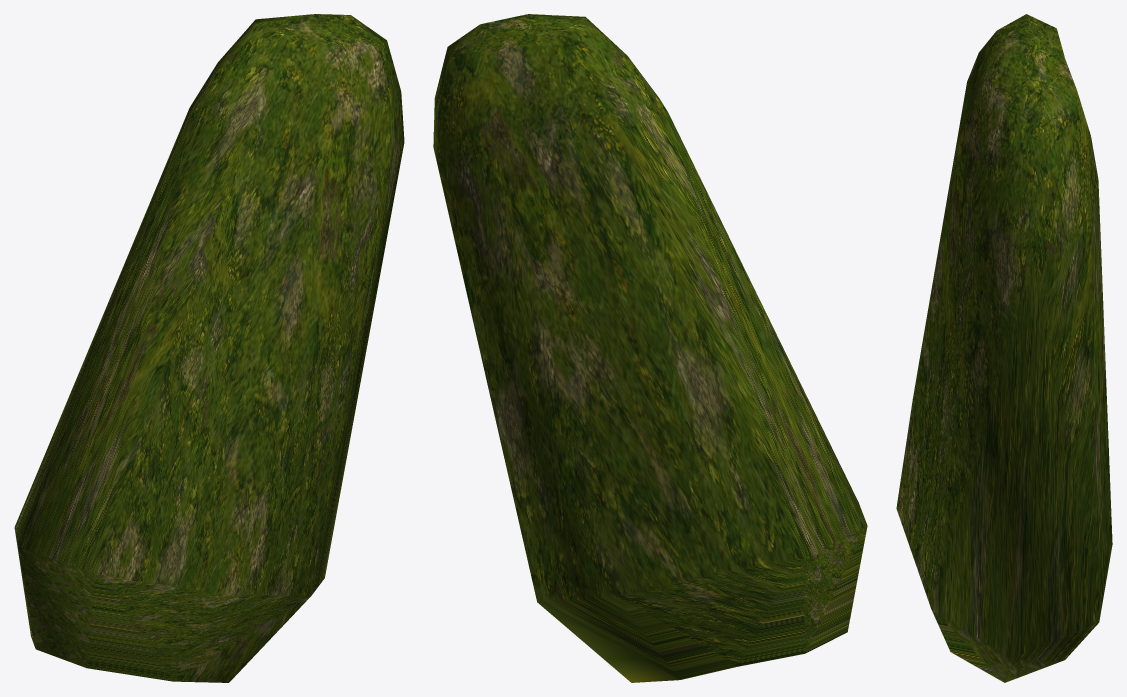
File: OVERHILL_A_01_LINE325.fbx
3 renders of one model, left to right at view 1: azimuth 30°, elevation 25°; view 2: azimuth 150°, elevation 25°; view 3: azimuth 270°, elevation 25°, orthographic. The views are drawn at different scales.
Parts seen in each view (by area): view 1: OVERHILL_A_01_LINE325; view 2: OVERHILL_A_01_LINE325; view 3: OVERHILL_A_01_LINE325.
Part boxes in pixels (<box>): OVERHILL_A_01_LINE325: <box>14,14,404,682</box>; OVERHILL_A_01_LINE325: <box>433,14,867,682</box>; OVERHILL_A_01_LINE325: <box>896,14,1112,682</box>.
Bounding box in the file's own units: 47837 × 70633 × 20194.
Materials: 1 (1 with a texture image).
